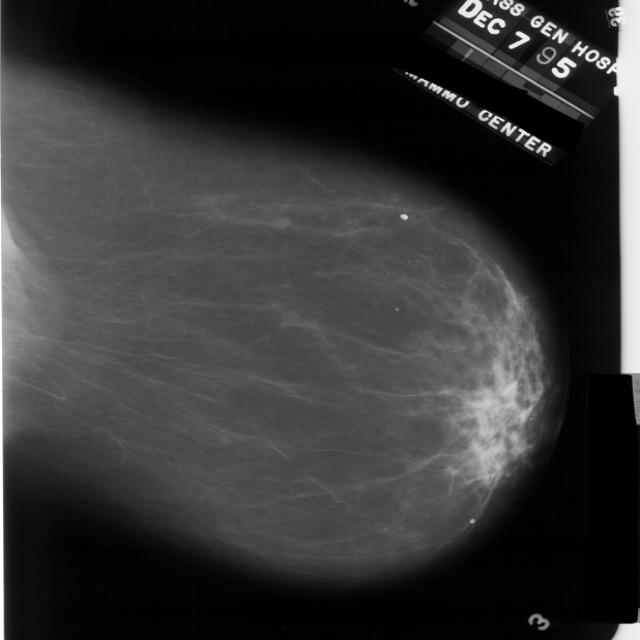tumour: (269, 214, 290, 228)
